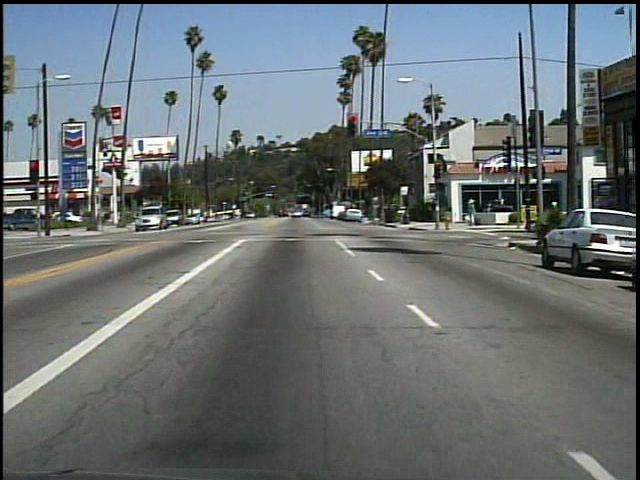person: (541, 194, 565, 235), (463, 194, 479, 227)
